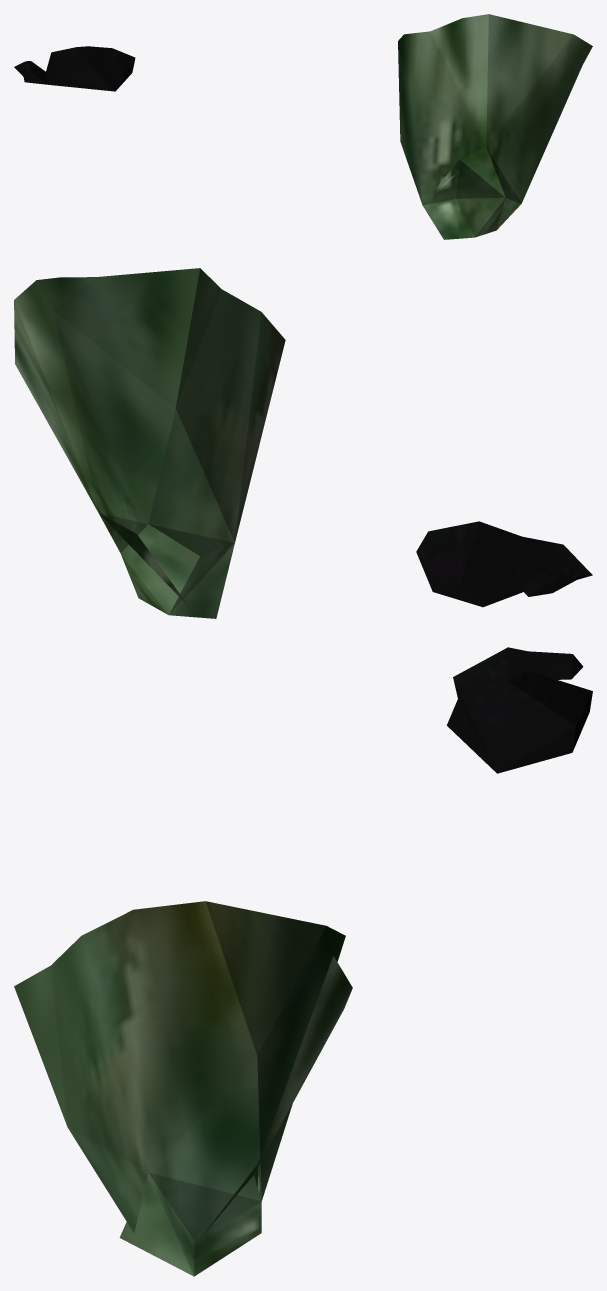
The picture shows the model from 3 angles, top to bottom: view 1: azimuth 30°, elevation 25°; view 2: azimuth 150°, elevation 25°; view 3: azimuth 270°, elevation 25°; orthographic projection. The views are drawn at different scales.
Size of the model in its own units: 1.17 by 0.4301 by 0.7125.
1 material, 1 textured.
